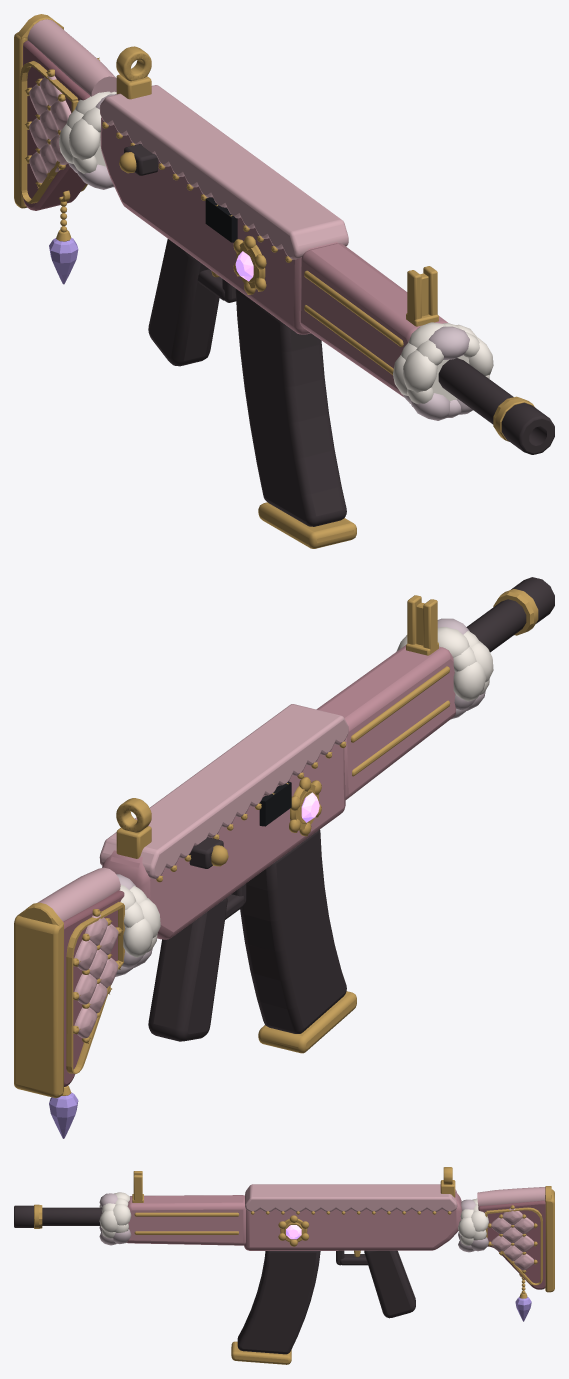
The model's file is w_ar@ar_cute_a.glb.
The picture shows the model from 3 angles, top to bottom: view 1: azimuth 30°, elevation 25°; view 2: azimuth 150°, elevation 25°; view 3: azimuth 270°, elevation 25°; orthographic projection. The views are drawn at different scales.
Parts seen in each view (by area): view 1: mag_wzB__dark__p3a3236, body_wzA__lrose__pd2aab3, body_wzA__rose__pbb8a96, guard_wzA__rose__pbb8a96, grip_wzB__dark__p3a3236, stock_wzA__lrose__pd2aab3, barrel_wzB__dark__p3a3236, stock_wzN__gold__pc19b56, guard_wzN__fur__pefe8e0, sight_wzN__gold__pc19b56, stock_wzA__drose__p94646f, stock_wzN__fur__pefe8e0 (+8 smaller); view 2: mag_wzB__dark__p3a3236, body_wzA__lrose__pd2aab3, stock_wzN__gold__pc19b56, body_wzA__rose__pbb8a96, guard_wzA__rose__pbb8a96, grip_wzB__dark__p3a3236, stock_wzA__lrose__pd2aab3, sight_wzN__gold__pc19b56, barrel_wzB__dark__p3a3236, guard_wzN__fur__pefe8e0, stock_wzA__drose__p94646f, stock_wzN__fur__pefe8e0 (+7 smaller); view 3: body_wzA__rose__pbb8a96, mag_wzB__dark__p3a3236, body_wzA__lrose__pd2aab3, guard_wzA__rose__pbb8a96, stock_wzA__lrose__pd2aab3, grip_wzB__dark__p3a3236, stock_wzN__gold__pc19b56, stock_wzA__drose__p94646f, barrel_wzB__dark__p3a3236, guard_wzN__fur__pefe8e0, guard_wzN__gold__pc19b56, stock_wzN__fur__pefe8e0 (+6 smaller).
Part boxes in pixels (x1,y1,x2,y2): mag_wzB__dark__p3a3236: [235, 289, 346, 526]; body_wzA__lrose__pd2aab3: [99, 85, 348, 259]; body_wzA__rose__pbb8a96: [100, 117, 338, 334]; guard_wzA__rose__pbb8a96: [299, 243, 447, 396]; grip_wzB__dark__p3a3236: [148, 239, 236, 366]; stock_wzA__lrose__pd2aab3: [27, 19, 116, 183]; barrel_wzB__dark__p3a3236: [438, 358, 554, 454]; stock_wzN__gold__pc19b56: [14, 14, 99, 241]; guard_wzN__fur__pefe8e0: [393, 322, 493, 404]; sight_wzN__gold__pc19b56: [116, 46, 438, 326]; stock_wzA__drose__p94646f: [23, 40, 90, 210]; stock_wzN__fur__pefe8e0: [59, 91, 116, 173]; mag_wzB__dark__p3a3236: [240, 829, 346, 1033]; body_wzA__lrose__pd2aab3: [99, 704, 348, 878]; stock_wzN__gold__pc19b56: [14, 902, 124, 1098]; body_wzA__rose__pbb8a96: [102, 744, 345, 939]; guard_wzA__rose__pbb8a96: [316, 645, 455, 799]; grip_wzB__dark__p3a3236: [148, 883, 246, 1041]; stock_wzA__lrose__pd2aab3: [37, 867, 120, 1038]; sight_wzN__gold__pc19b56: [116, 595, 438, 858]; barrel_wzB__dark__p3a3236: [466, 577, 554, 652]; guard_wzN__fur__pefe8e0: [396, 627, 493, 701]; stock_wzA__drose__p94646f: [63, 890, 124, 1086]; stock_wzN__fur__pefe8e0: [119, 885, 160, 957]; body_wzA__rose__pbb8a96: [244, 1192, 461, 1250]; mag_wzB__dark__p3a3236: [237, 1251, 320, 1354]; body_wzA__lrose__pd2aab3: [245, 1184, 457, 1211]; guard_wzA__rose__pbb8a96: [126, 1195, 245, 1245]; stock_wzA__lrose__pd2aab3: [477, 1187, 545, 1270]; grip_wzB__dark__p3a3236: [336, 1250, 415, 1318]; stock_wzN__gold__pc19b56: [485, 1186, 554, 1298]; stock_wzA__drose__p94646f: [478, 1200, 545, 1289]; barrel_wzB__dark__p3a3236: [14, 1205, 102, 1227]; guard_wzN__fur__pefe8e0: [99, 1192, 131, 1238]; guard_wzN__gold__pc19b56: [134, 1212, 239, 1234]; stock_wzN__fur__pefe8e0: [458, 1198, 488, 1245].
Size of the model in its own units: 0.131 by 0.4649 by 1.19.
